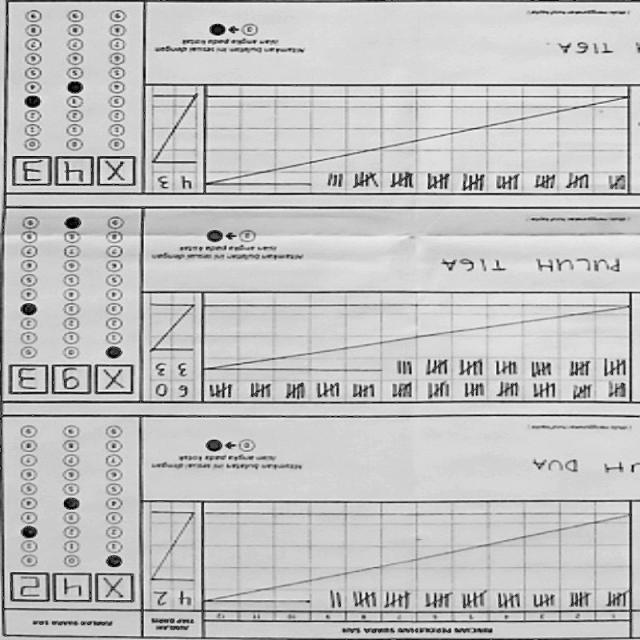Suara: (5, 358, 136, 396), (6, 567, 136, 603), (7, 153, 138, 186)
